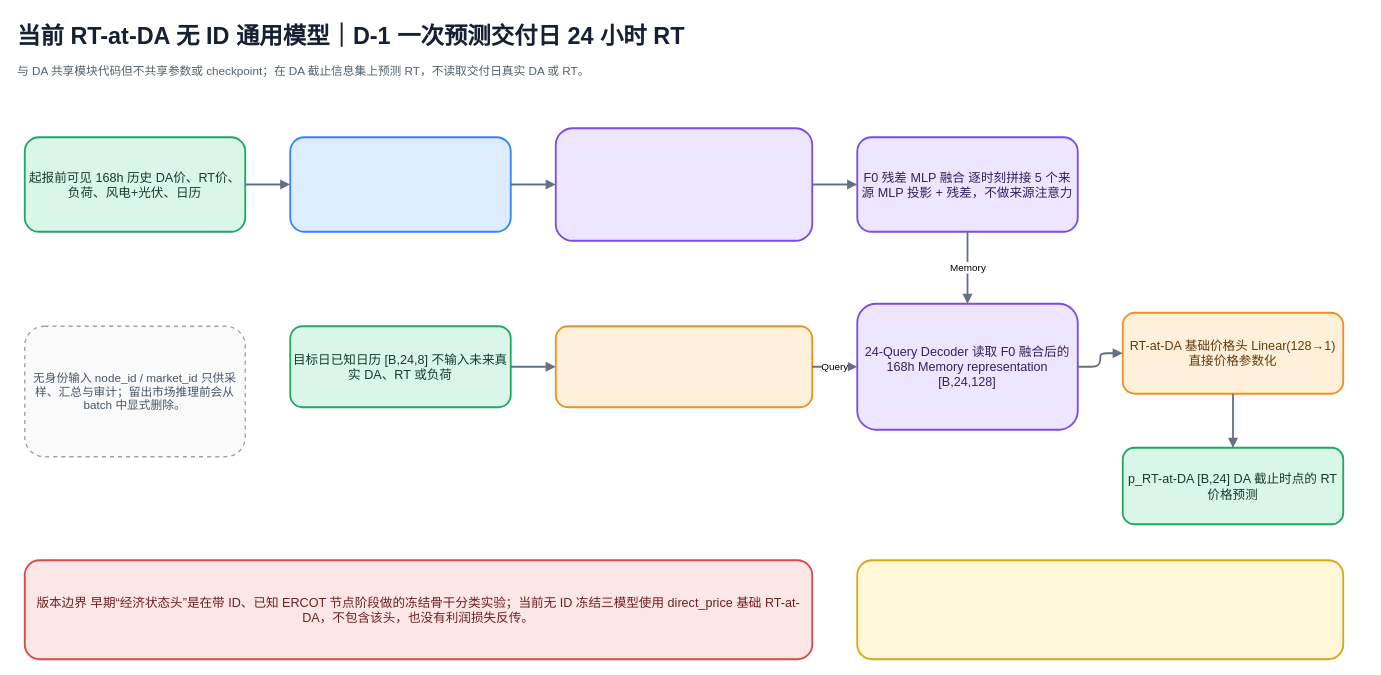
Image size: 1381x675. Some labels were removed from this diagram. The box of each missing label's shape, as (x1, y1, x2, y2) in pixels:
5 条独立 StreamEncoder 价格/负荷/系统：2层 Transformer + RoPE 日历：MLP；d_model=128: (554, 127, 813, 241)
Context-Robust 归一化 只用各样本历史窗口 中位数 / MAD（含同窗口回退）: (289, 136, 511, 232)
当前冻结结构 RT-at-DA 使用 F0 + Pseudo-Huber(δ=1，标准化尺度)；全参数训练。四市场 LOMO 4/4 均优于 lag-168。: (856, 559, 1344, 660)
目标日历投影 Linear(8→128) + GELU + LayerNorm 形成 24 个 Query 条件: (554, 325, 813, 408)
